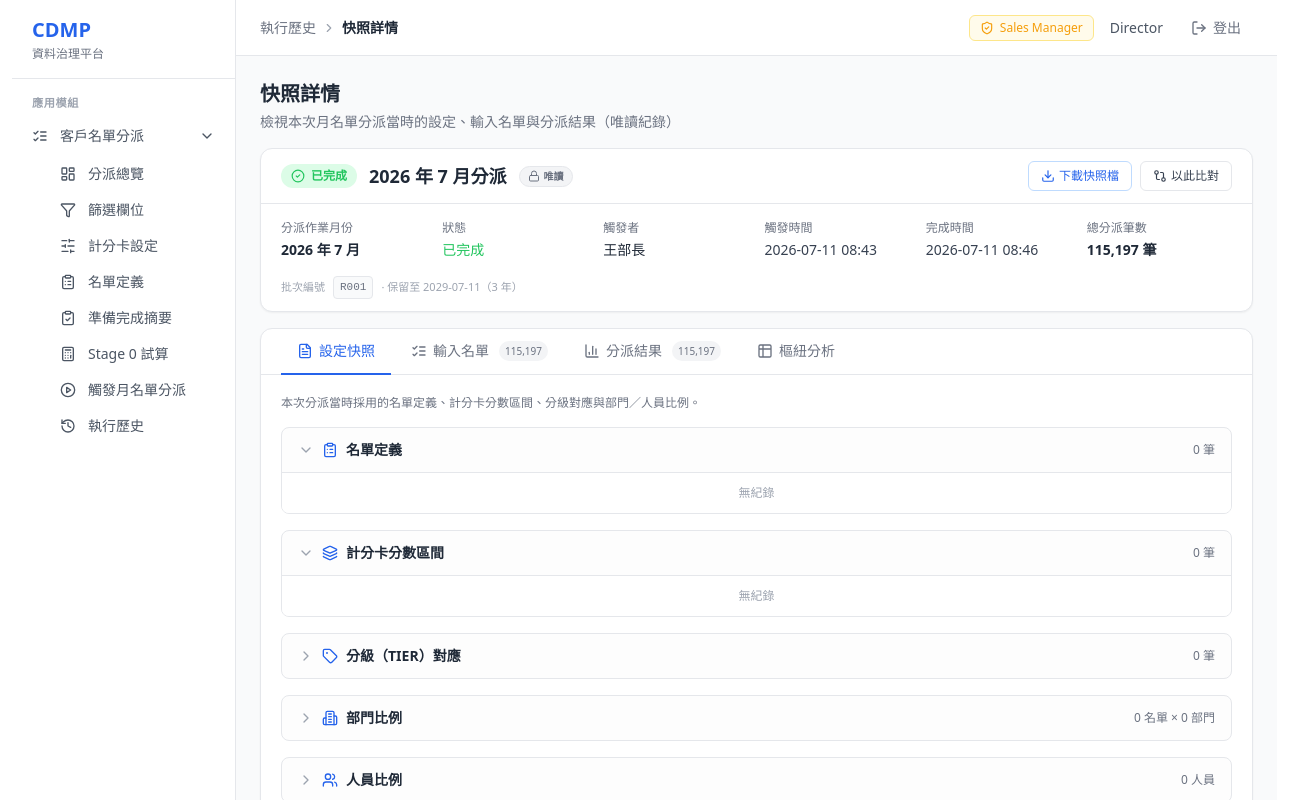
Scenario: SnapshotDetailPage (F066 v1.3) › 點樞紐分析分頁 → 呼叫 getPivot 並呈現交叉表
Click the button with test id "snapshot-tab-pivot".
click(796, 352)  # box top-left (741, 328), bottom-right (851, 374)
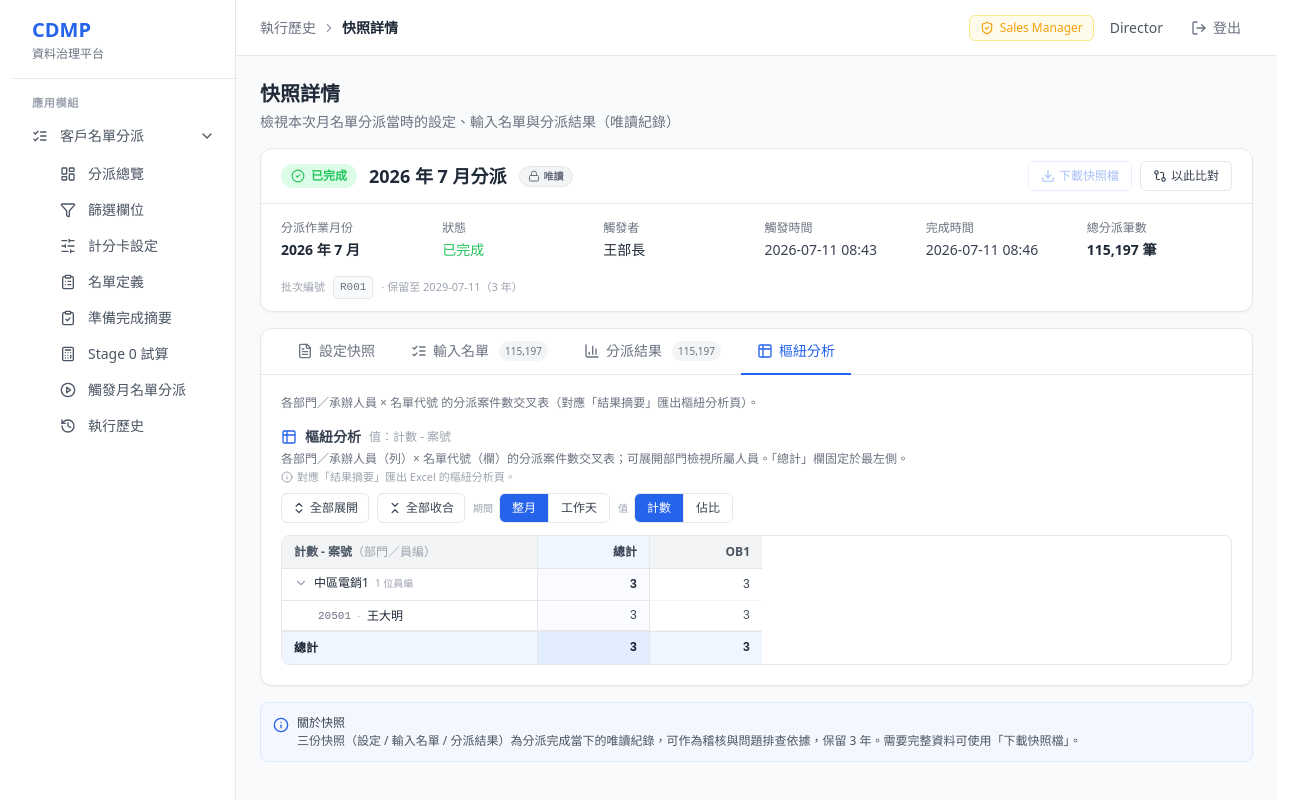
expect the element with test id "snapshot-pivot-view" is shown: met, box top-left (281, 426), bottom-right (1232, 665)
expect the button "中區電銷1 1 位員編" is shown: met, box top-left (294, 575), bottom-right (413, 591)
